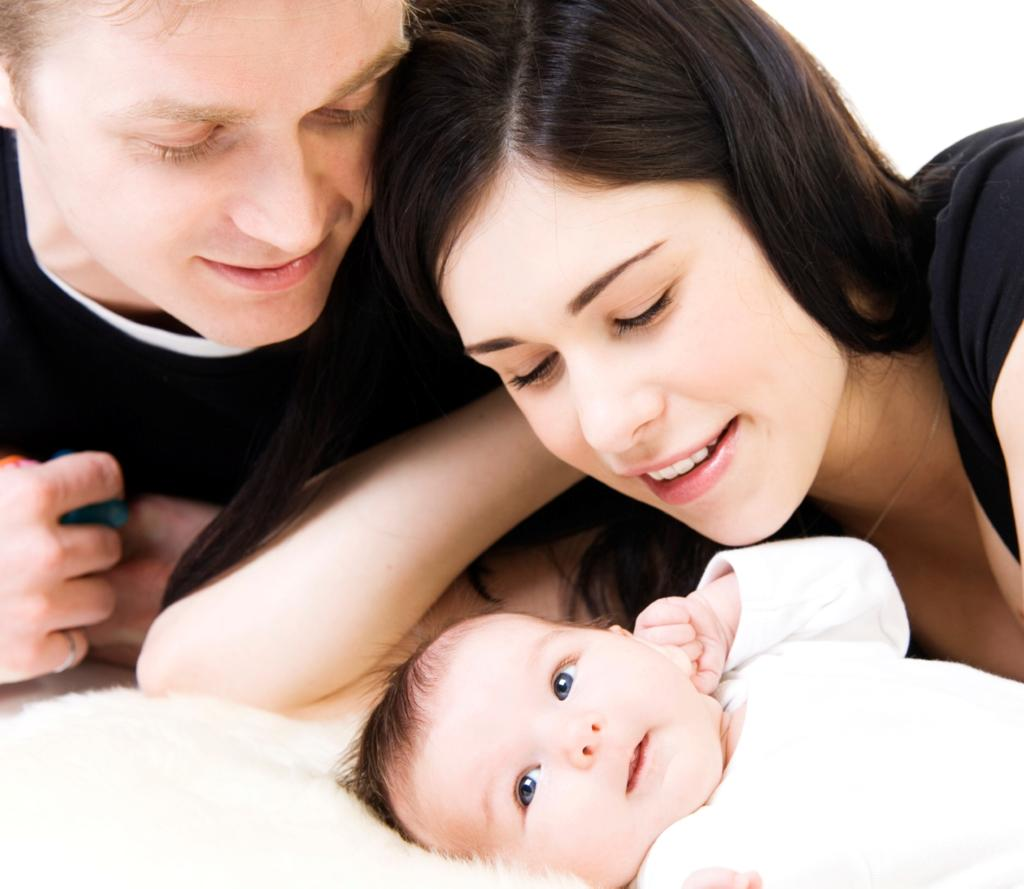face: (436, 196, 850, 548), (58, 14, 414, 350), (404, 612, 726, 889)
